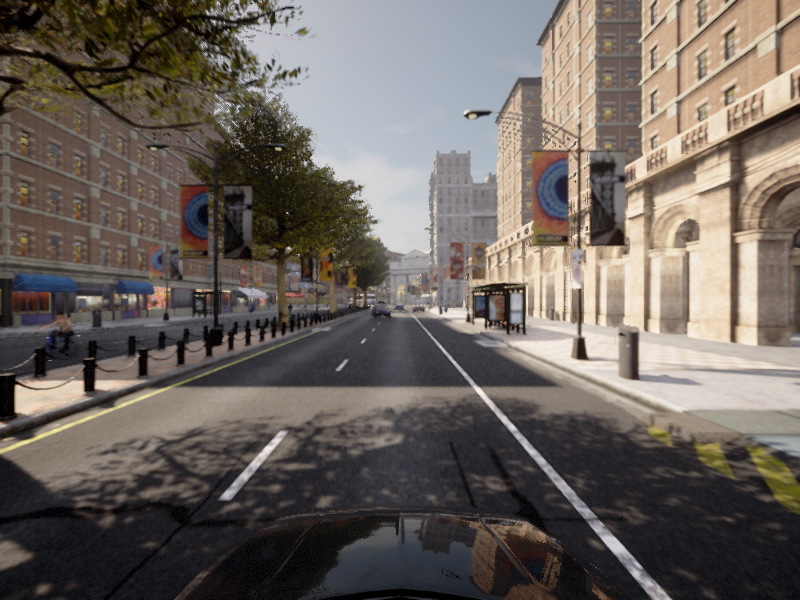vehicle: (24, 310, 88, 362), (370, 305, 391, 318), (283, 302, 294, 319)
